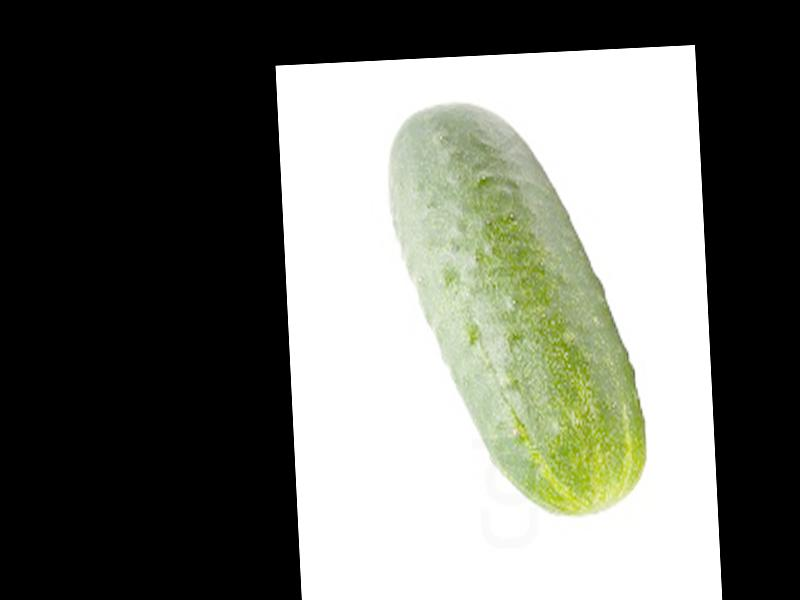Cucumber: (383, 95, 646, 525)
